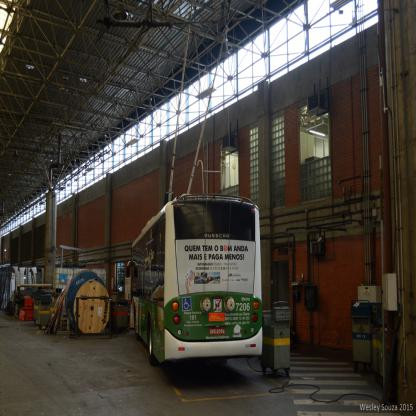Bus: (124, 190, 261, 368)
